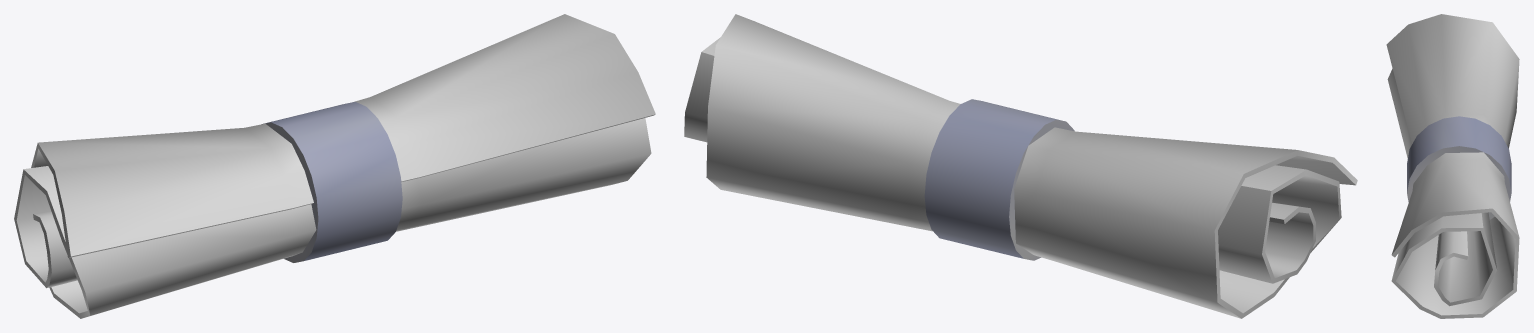
The model's file is Scroll_1.glb.
The picture shows the model from 3 angles, left to right: view 1: azimuth 30°, elevation 25°; view 2: azimuth 150°, elevation 25°; view 3: azimuth 270°, elevation 25°; orthographic projection. The views are drawn at different scales.
Visible parts, largest first — view 1: Scroll_1_fbe365, Scroll_1_ca55bb; view 2: Scroll_1_fbe365, Scroll_1_ca55bb; view 3: Scroll_1_fbe365, Scroll_1_ca55bb.
Part boxes in pixels (box(x1,y1,x2,y2)): Scroll_1_fbe365: box(14, 14, 655, 318); Scroll_1_ca55bb: box(262, 102, 402, 262); Scroll_1_fbe365: box(684, 14, 1357, 318); Scroll_1_ca55bb: box(924, 99, 1074, 260); Scroll_1_fbe365: box(1386, 14, 1519, 318); Scroll_1_ca55bb: box(1407, 116, 1511, 219).
Size of the model in its own units: 0.2439 by 0.0588 by 0.0631.
